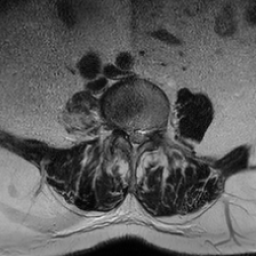CCS_normal: (131, 123, 138, 160)
LFS_stenosis: (145, 121, 154, 141)
LLS_normal: (138, 123, 145, 150)
RFS_severe_stenosis: (115, 117, 123, 145)
RLS_stenosis: (123, 122, 131, 147)
